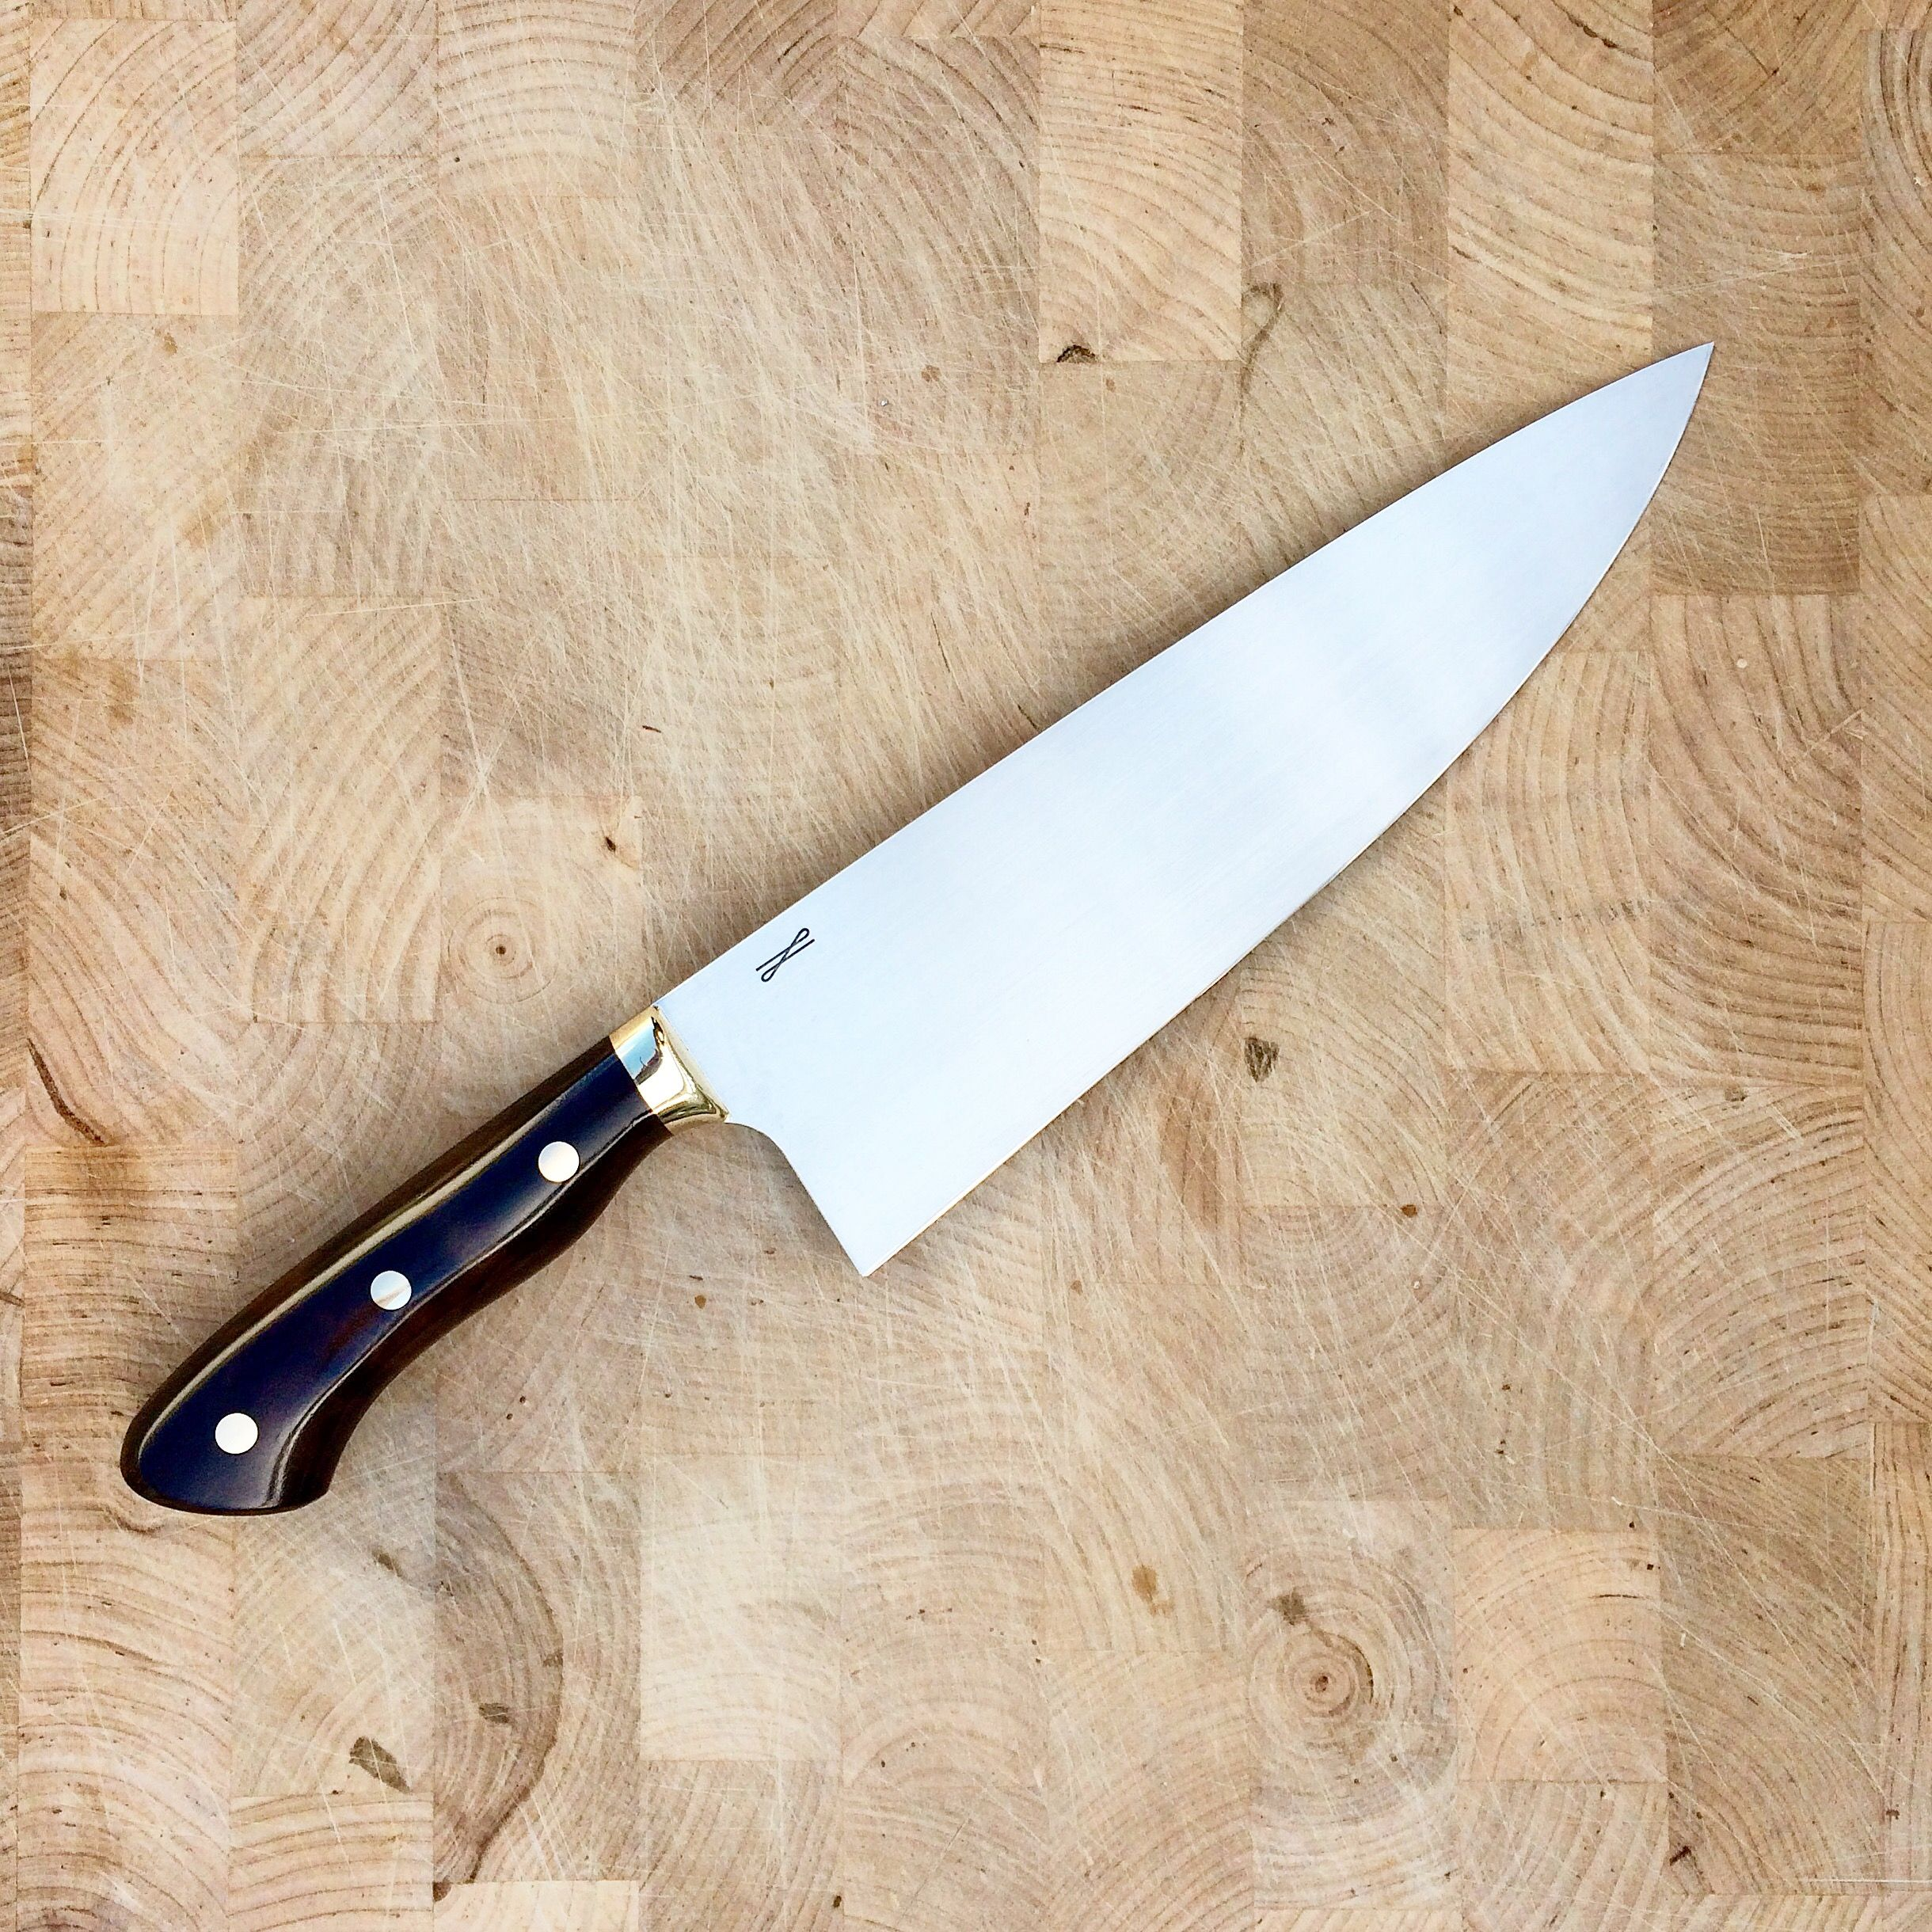knife: (104, 315, 1743, 1660)
